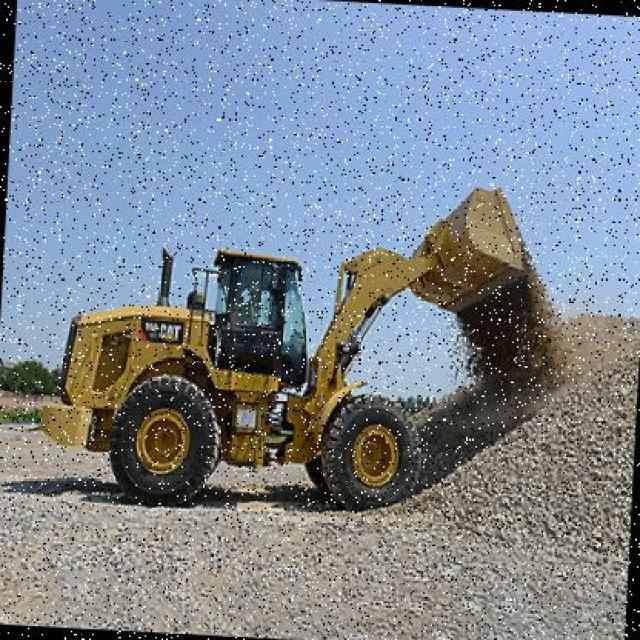buldozerpayloadergrader: (28, 161, 535, 524)
